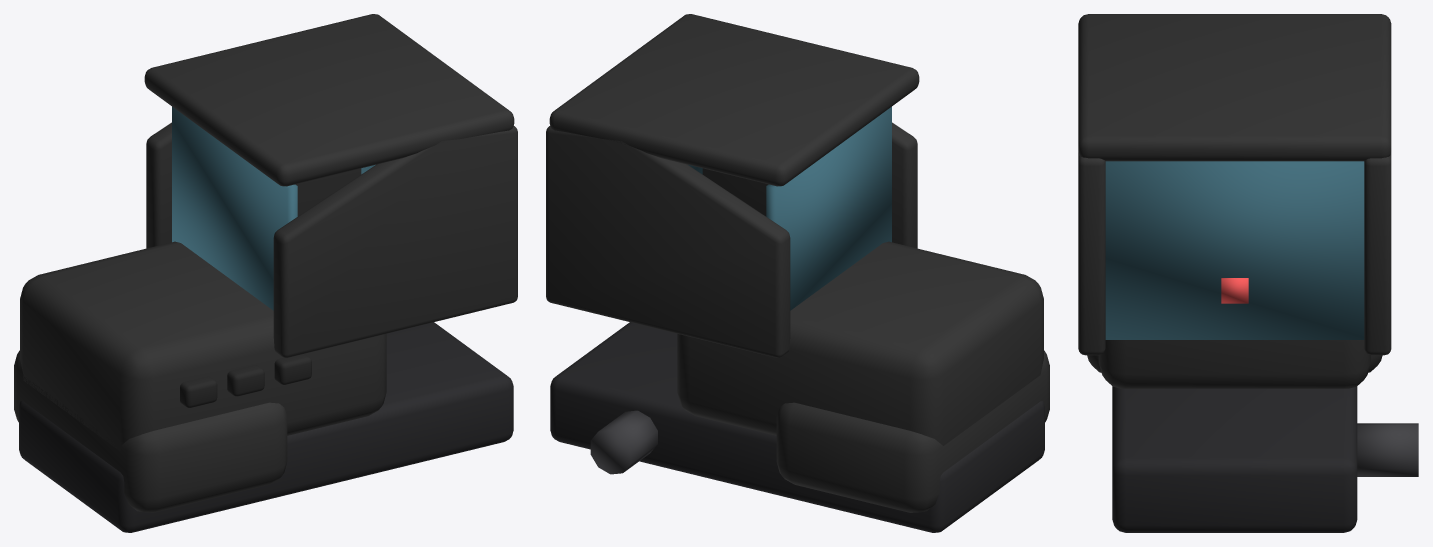
File: SM_Holo.glb
The picture shows the model from 3 angles, left to right: view 1: azimuth 30°, elevation 25°; view 2: azimuth 150°, elevation 25°; view 3: azimuth 270°, elevation 25°; orthographic projection. The views are drawn at different scales.
Parts seen in each view (by area): view 1: SM_Holo; view 2: SM_Holo; view 3: SM_Holo.
Part boxes in pixels (left/top/right/bottom): SM_Holo: left=14, top=14, right=517, bottom=532; SM_Holo: left=546, top=14, right=1049, bottom=532; SM_Holo: left=1078, top=14, right=1418, bottom=532.
Size of the model in its own units: 0.075 by 0.063 by 0.05.
